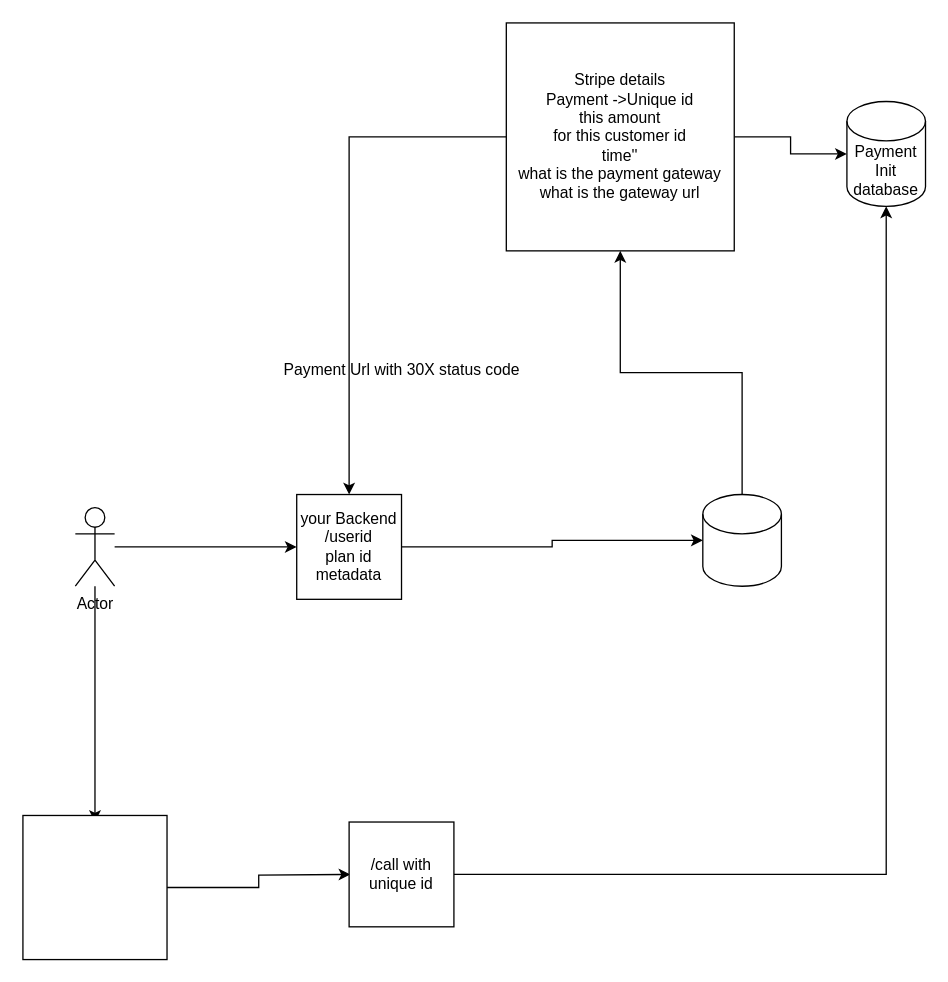
This 948x982 diagram has some shape labels left out. Each missing label, with the box of its shape:
stripe page with amount xyz redirection url and details (some unique id): (22, 814, 167, 960)
what amount: (702, 493, 781, 586)
